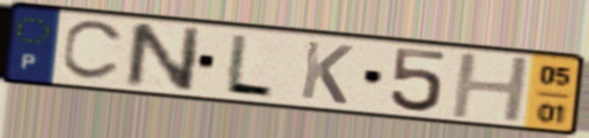5: (389, 46, 450, 115)
C: (58, 19, 129, 84)
H: (447, 52, 534, 125)
K: (296, 38, 356, 108)
L: (220, 31, 277, 100)
N: (122, 20, 205, 94)
